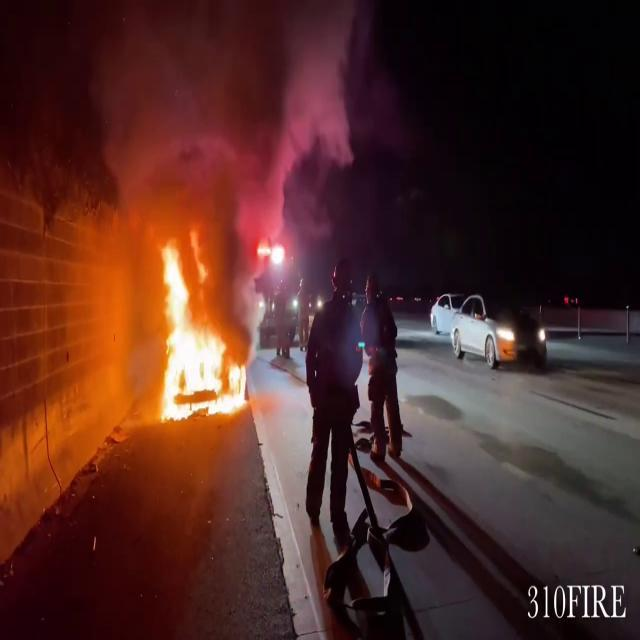Fire: (144, 230, 248, 424)
Smoke: (62, 0, 380, 252)
